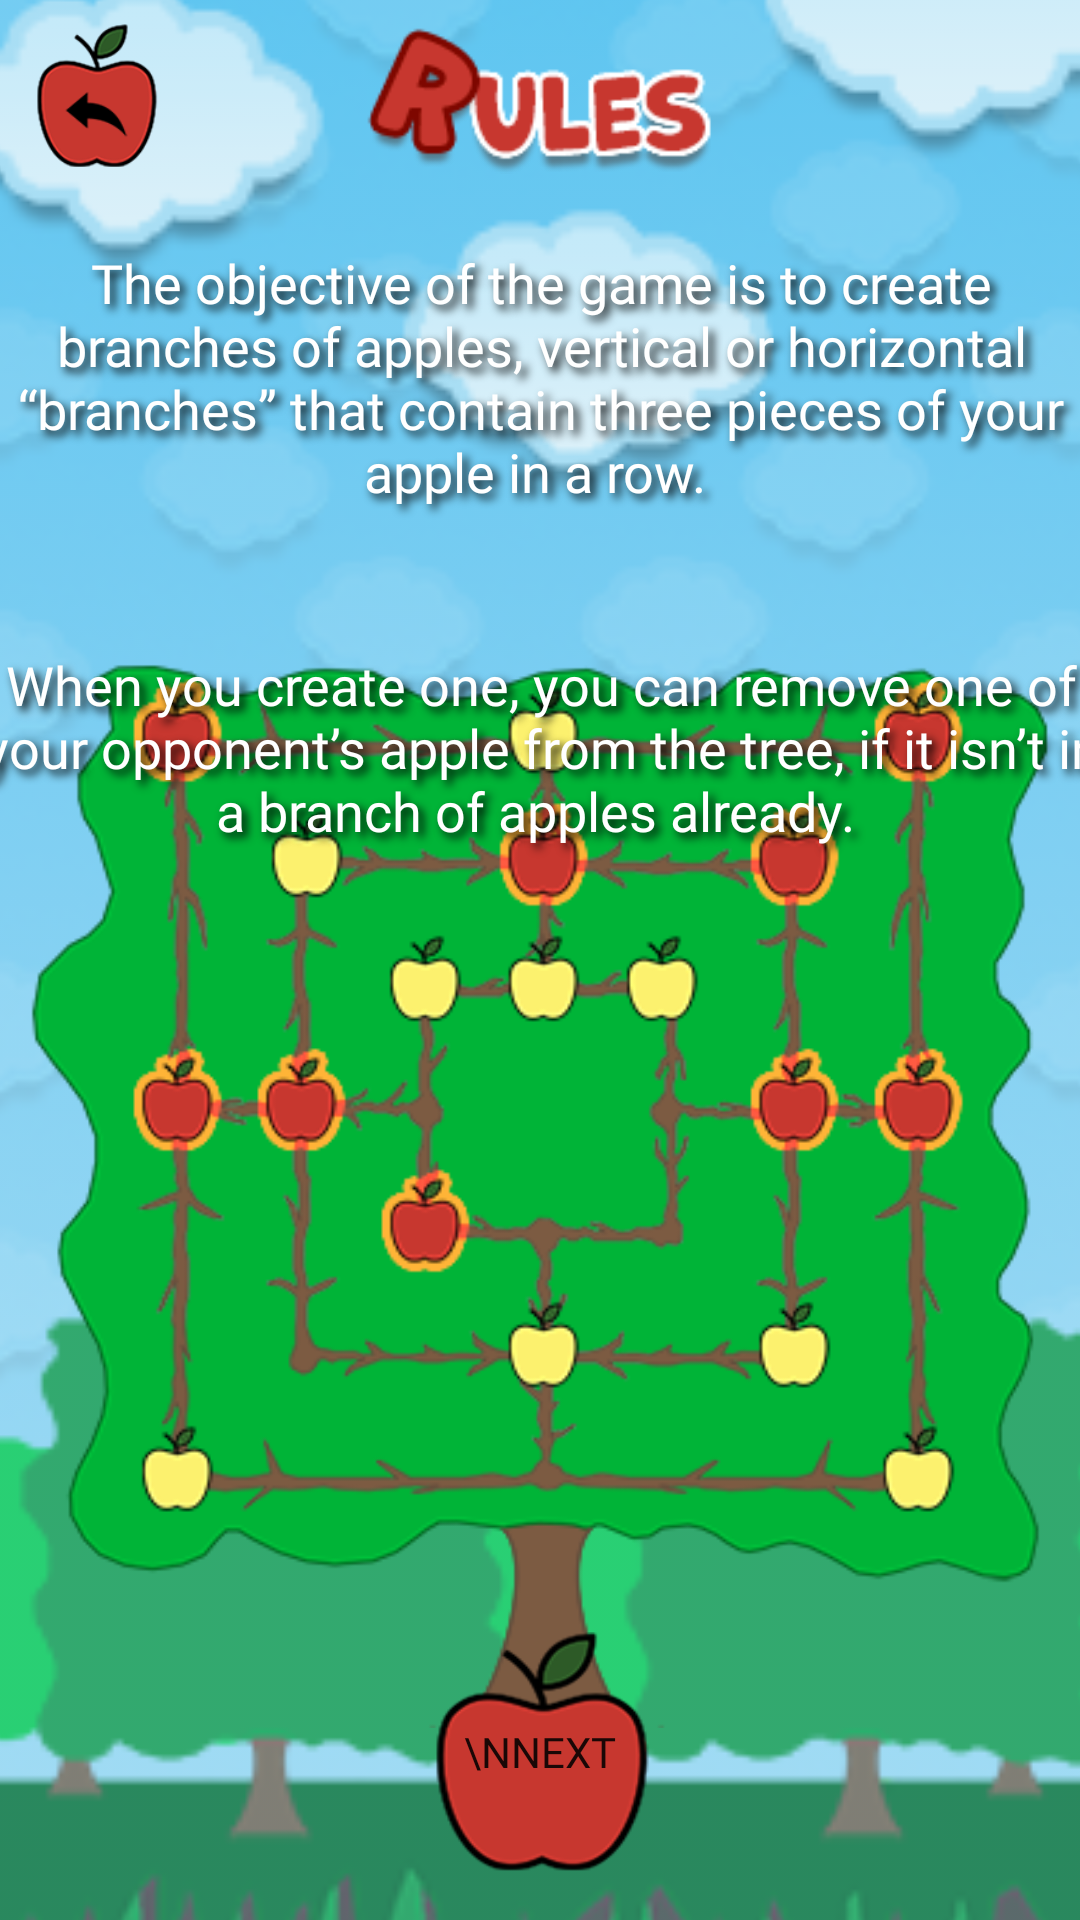

Icons on this 1080px x 1920px Android screen, each with the point to tap as (x=x, y=y):
backbutton: (x=97, y=95)
